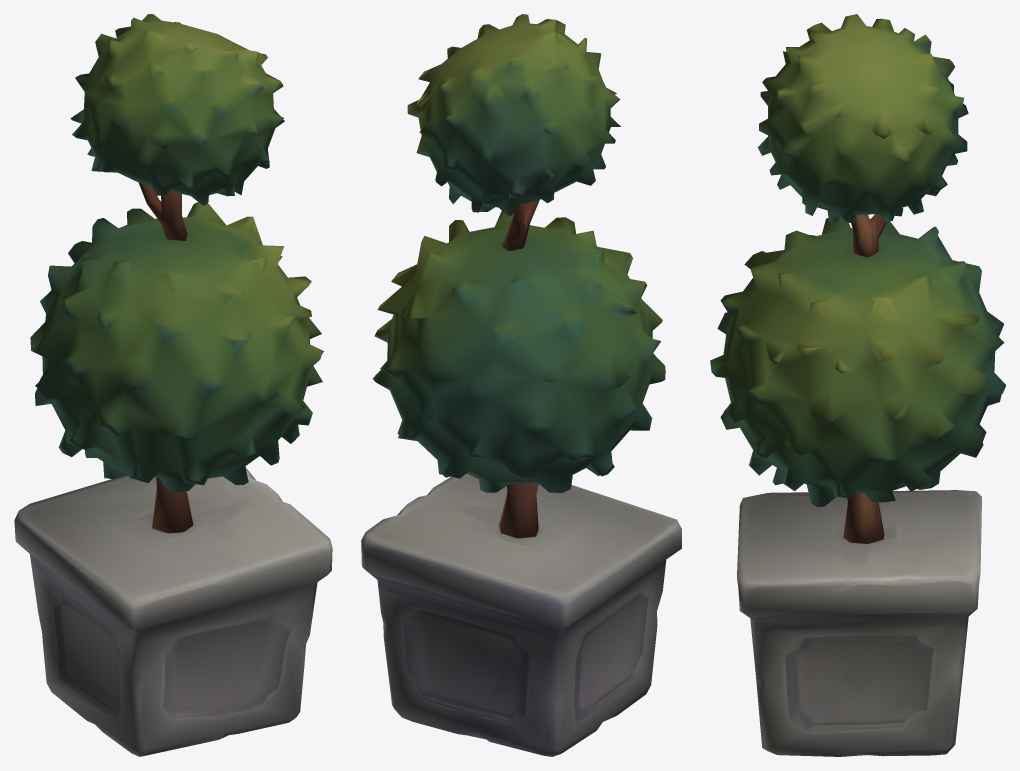
The model's file is map_topi_ball_tripo.glb.
The picture shows the model from 3 angles, left to right: view 1: azimuth 30°, elevation 25°; view 2: azimuth 150°, elevation 25°; view 3: azimuth 270°, elevation 25°; orthographic projection.
Visible parts, largest first — view 1: tripo_node_547bf1ff-9af0-4a1a-b55b-6b5a496ba94a; view 2: tripo_node_547bf1ff-9af0-4a1a-b55b-6b5a496ba94a; view 3: tripo_node_547bf1ff-9af0-4a1a-b55b-6b5a496ba94a.
Part boxes in pixels (x1=…): tripo_node_547bf1ff-9af0-4a1a-b55b-6b5a496ba94a: x1=14, y1=14, x2=332, y2=756; tripo_node_547bf1ff-9af0-4a1a-b55b-6b5a496ba94a: x1=361, y1=14, x2=681, y2=756; tripo_node_547bf1ff-9af0-4a1a-b55b-6b5a496ba94a: x1=710, y1=14, x2=1005, y2=756.
Bounding box in the file's own units: 0.3926 × 0.998 × 0.3887.
Materials: 1 (1 with a texture image).
